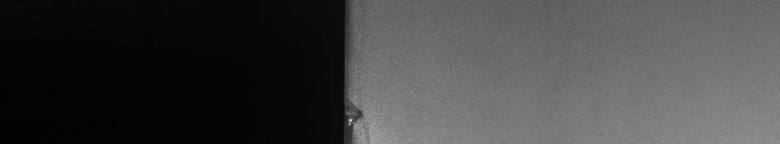hb: (356, 100, 373, 136)
